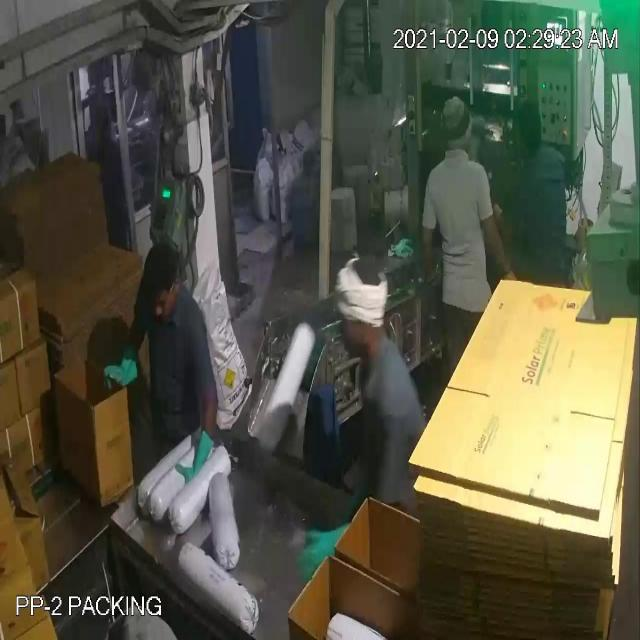Gloves: (28, 70, 499, 554)
